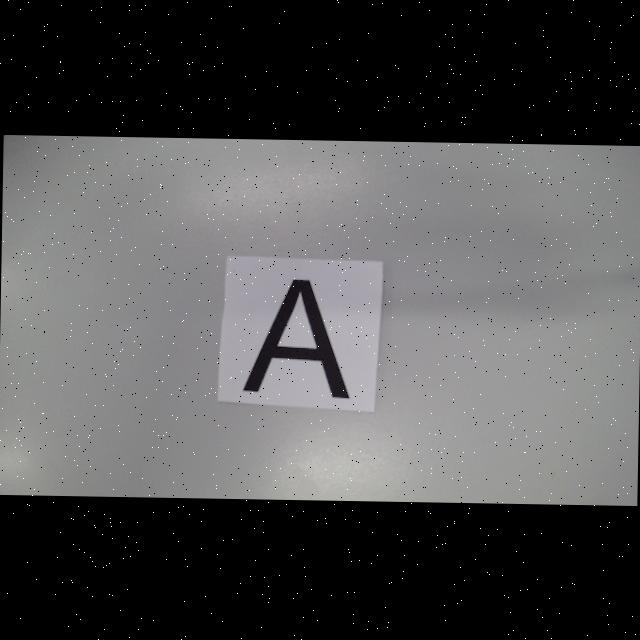FAKE: (242, 278, 352, 400)
